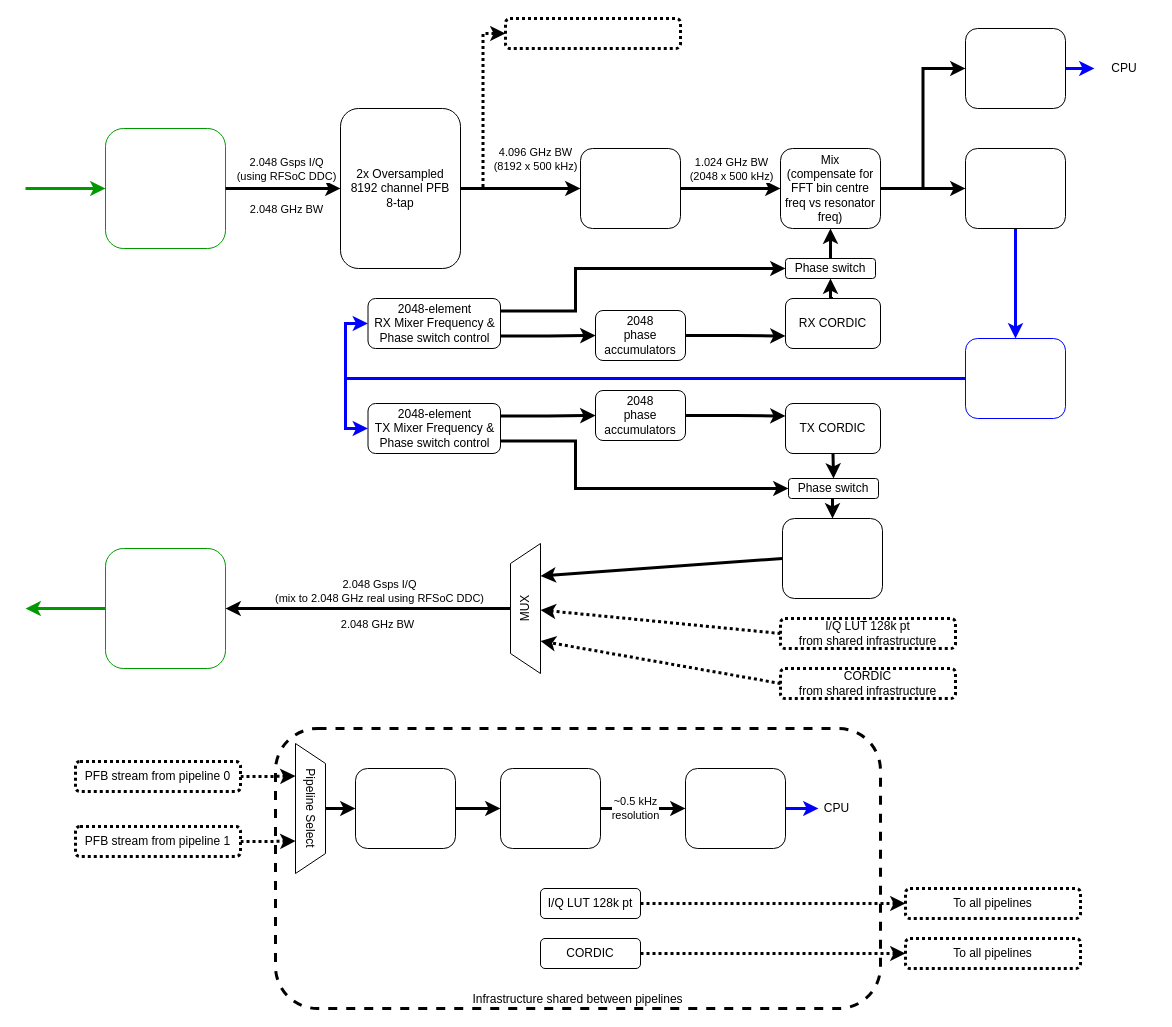
This 1172x1027 diagram has some shape labels left out. The shapes that lost their labels are listed below. From the top down, each one's box as (x1, y1, x2, y2) in pixels, then its label:
(504, 16, 682, 50): to shared infrastructure
(964, 28, 1066, 108): Window / Integrate / Downsample Cadence "A"
(104, 128, 226, 248): ADC 0 - 2.048 GHz 4.096 Gsps Real
(580, 148, 680, 228): Channel Select 2048 of 8192
(964, 148, 1066, 228): Window / Integrate / Downsample Cadence "B"
(964, 338, 1066, 418): CPU-based Tone Tracking computation (Infer Δf from phase)
(782, 518, 882, 598): Polyphase Synthesis Filterbank 8192 channels, 50% overlapped
(104, 548, 226, 668): DAC 0 - 2.048 GHz 4.096 Gsps Real
(354, 768, 456, 848): Select 1 channel
(500, 768, 600, 848): Fine-resolution 1024-pt FFT
(684, 768, 786, 848): Integrate / Downsample
